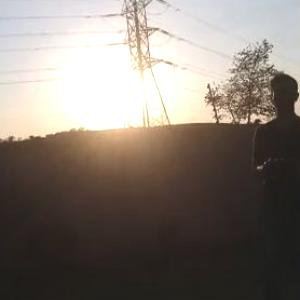follow: (246, 68, 300, 299)
